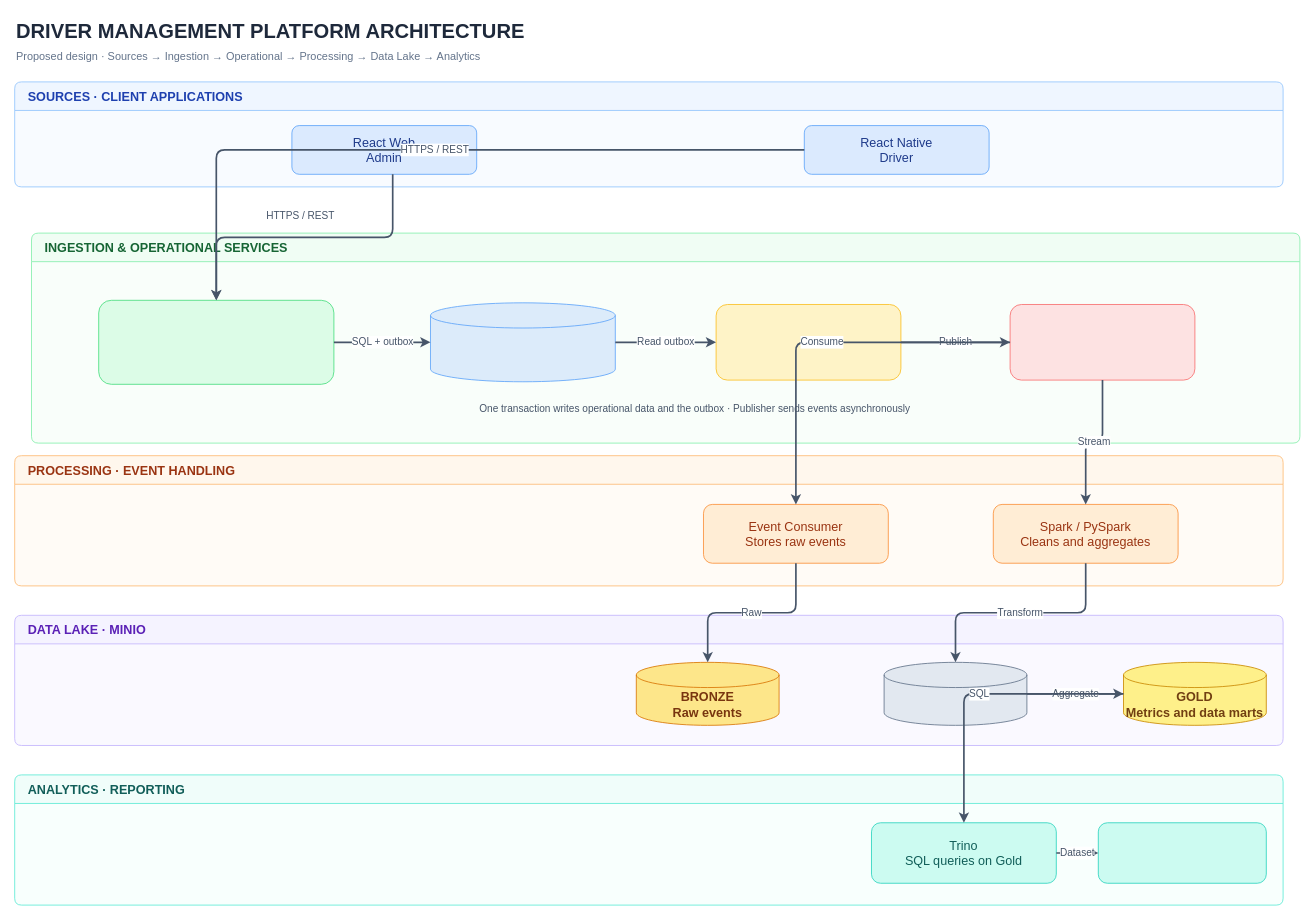
Some shapes in this 1315 by 920 pixel diagram are drawn without their labels. Here are the shapes that lost their labels. From the top down, the centre of each, then its label:
point 216,341: FastAPI API Auth · Driver · Leave Attendance · Payroll
point 522,342: PostgreSQL Operational data + outbox
point 808,342: Outbox Publisher Reads pending events
point 1102,342: Apache Kafka Event topics
point 955,693: SILVER Cleaned data
point 1181,852: Apache Superset Dashboard
